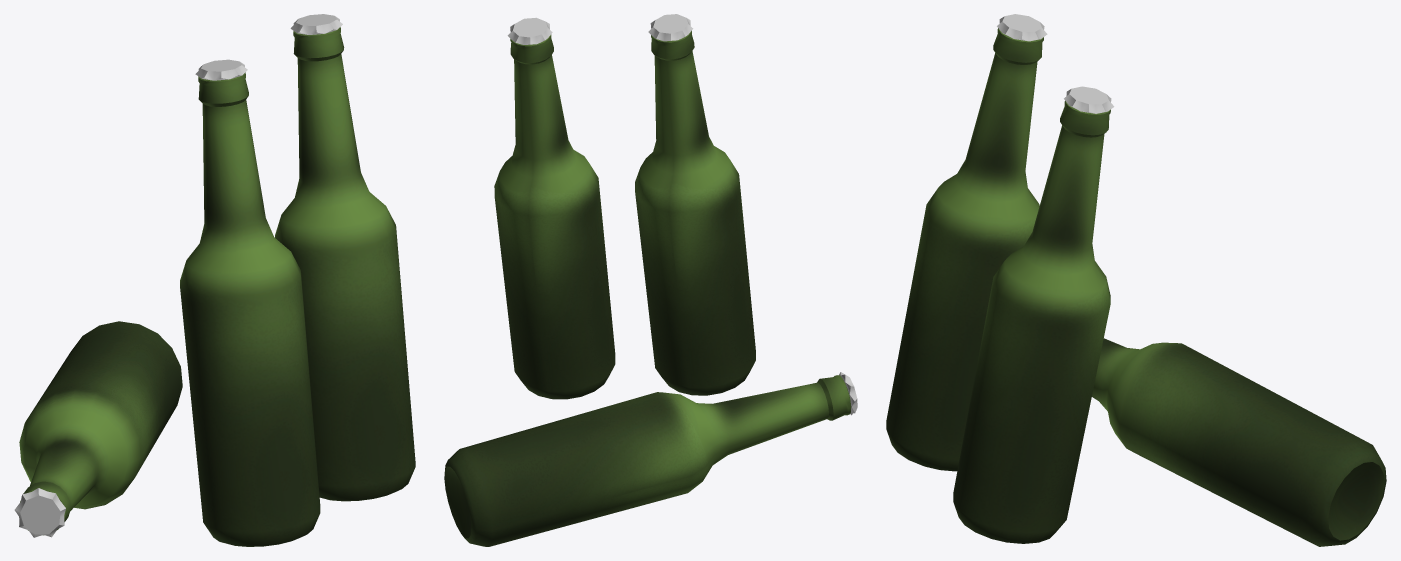
The model's file is soju12.obj.
3 renders of one model, left to right at view 1: azimuth 30°, elevation 25°; view 2: azimuth 150°, elevation 25°; view 3: azimuth 270°, elevation 25°, orthographic. The views are drawn at different scales.
Bounding box in the file's own units: 6.48 × 7.95 × 7.29.
